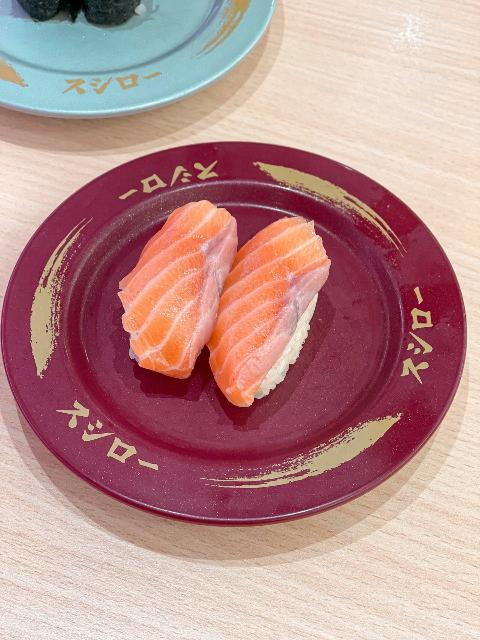janwhite: (0, 0, 245, 126)
